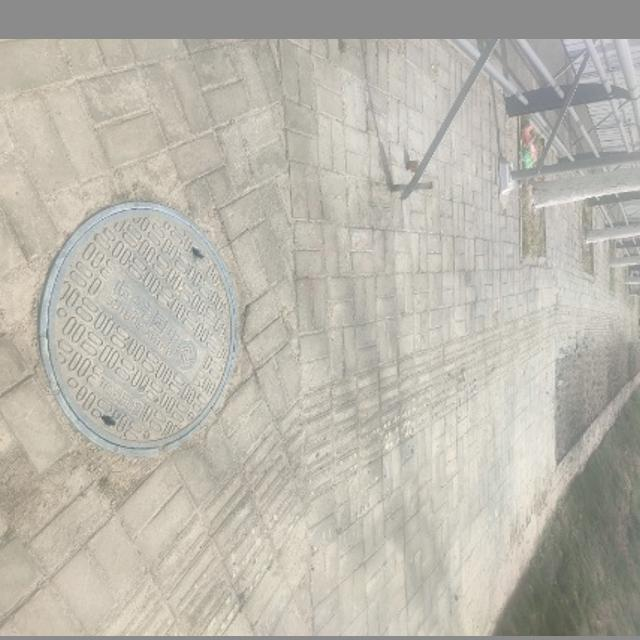good: (38, 200, 238, 454)
